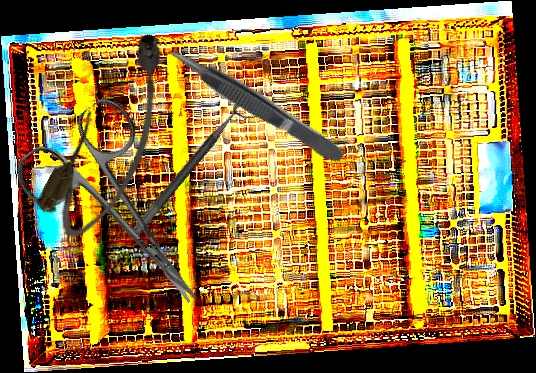Cannula: (29, 23, 198, 249)
Fixation Ring: (131, 96, 261, 245)
Iris Scissors: (6, 90, 242, 343)
Tissue Forceps: (163, 37, 348, 171)
